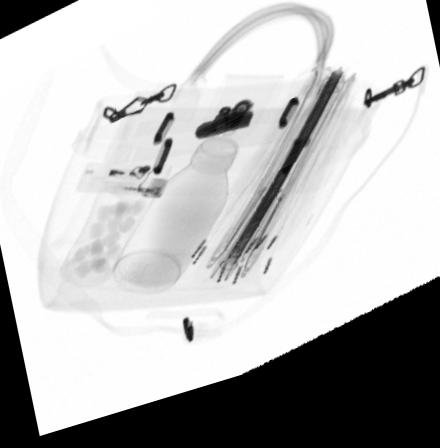Lighter: (75, 167, 173, 208)
